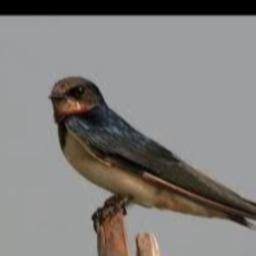Swallow: (49, 78, 256, 231)
